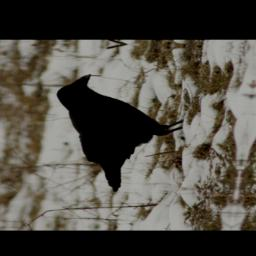Crow: (35, 70, 195, 193)
